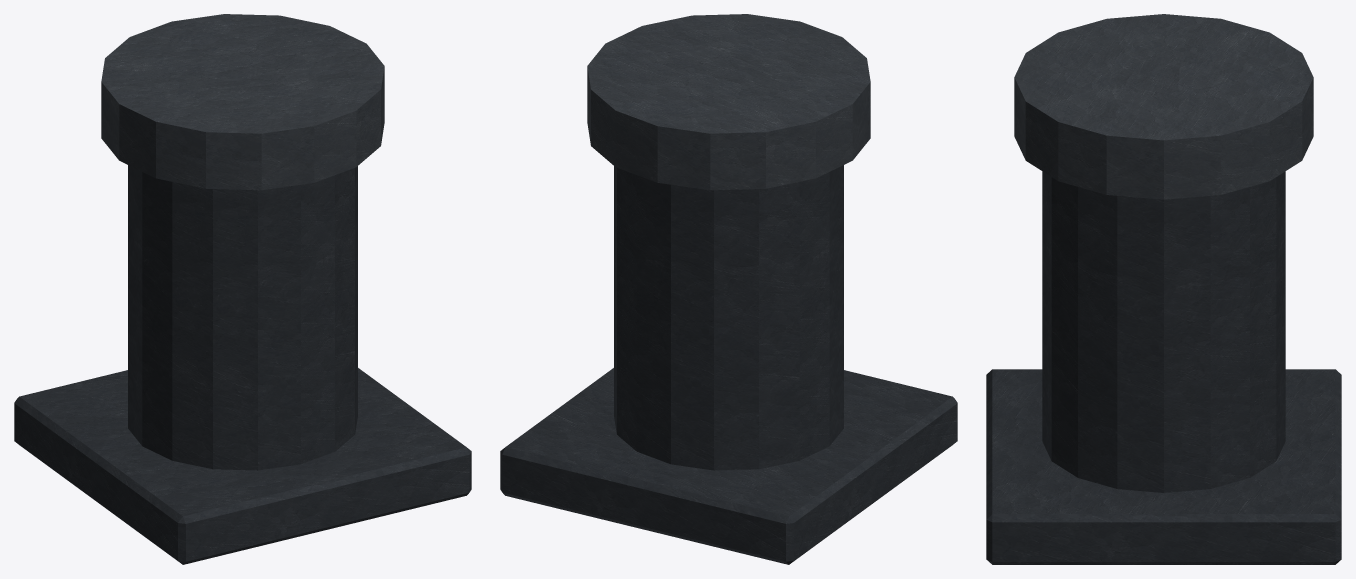
The model's file is train_chimney.gltf.
The picture shows the model from 3 angles, left to right: view 1: azimuth 30°, elevation 25°; view 2: azimuth 150°, elevation 25°; view 3: azimuth 270°, elevation 25°; orthographic projection. The views are drawn at different scales.
Bounding box in the file's own units: 0.76 × 0.98 × 0.76.
Materials: 2 (2 with a texture image).
